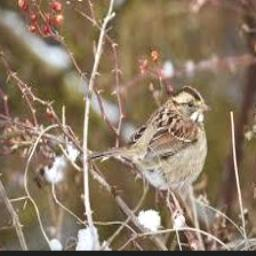Sparrow: (88, 86, 213, 205)
